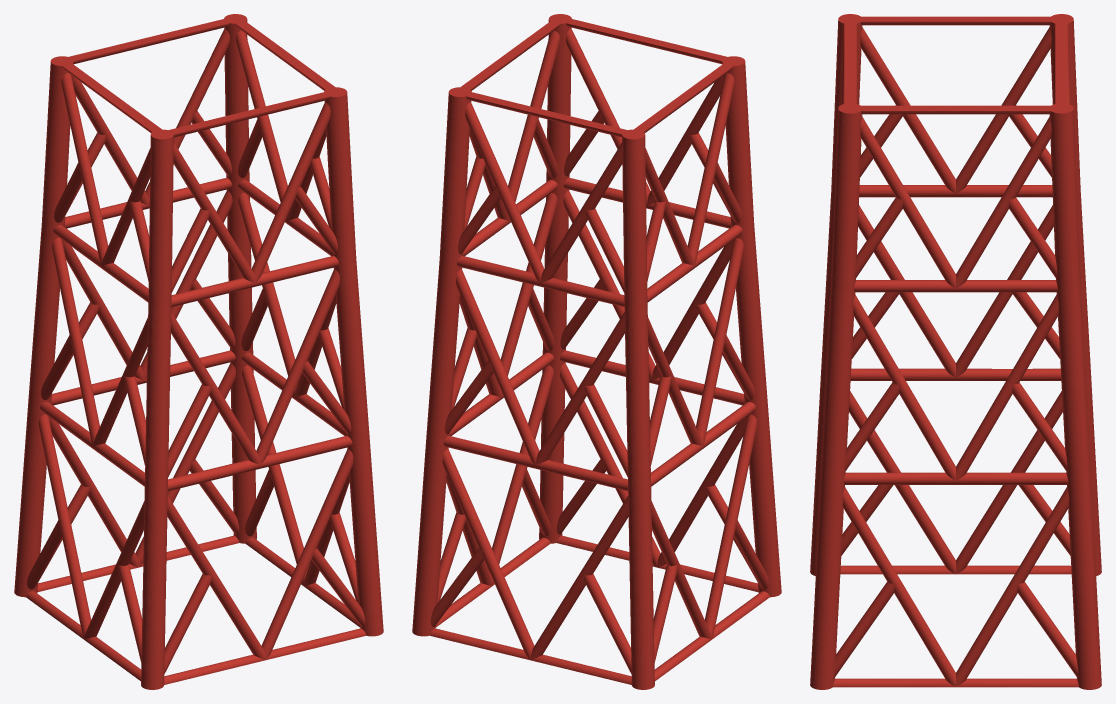
3 views of the same model, side by side, from view 1: azimuth 30°, elevation 25°; view 2: azimuth 150°, elevation 25°; view 3: azimuth 270°, elevation 25° (orthographic). The views are drawn at different scales.
Visible parts, largest first — view 1: H19-H22; view 2: H19-H22; view 3: H19-H22.
Boxes of the visible parts, box(x1,y1,x2,y2) form: H19-H22: box(14, 14, 383, 689); H19-H22: box(412, 14, 781, 689); H19-H22: box(810, 14, 1101, 689).
Size of the model in its own units: 11.94 by 25.5 by 11.94.
